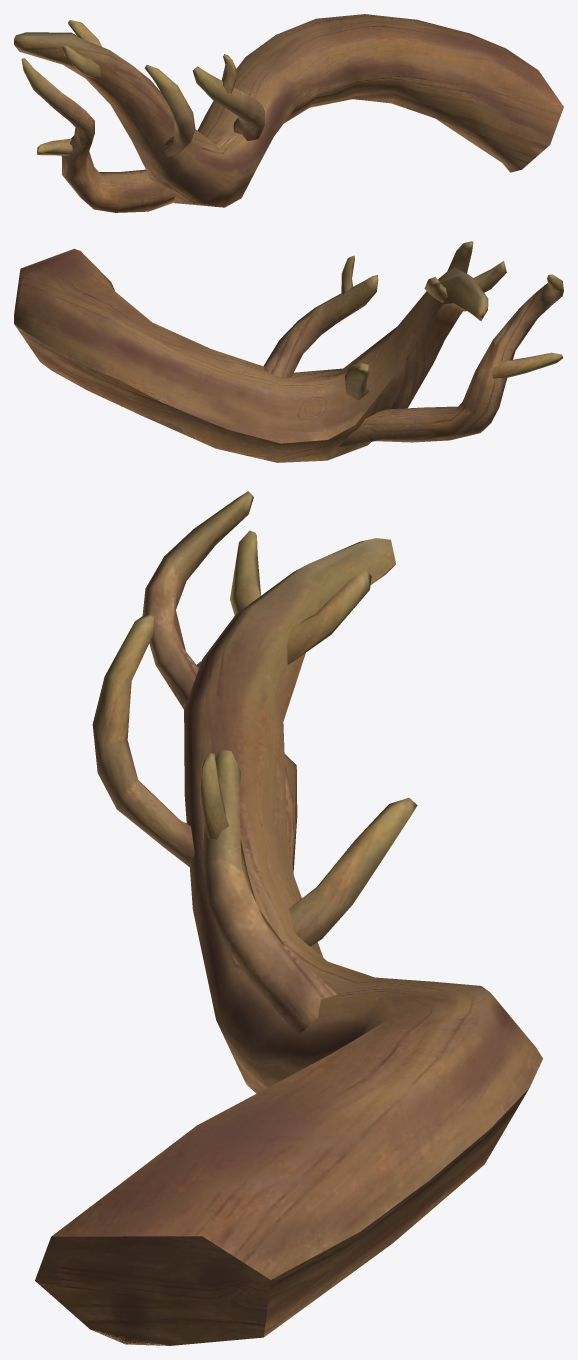
The model's file is SM_Potion_Props_Loot_Root_01.fbx.
The picture shows the model from 3 angles, top to bottom: view 1: azimuth 30°, elevation 25°; view 2: azimuth 150°, elevation 25°; view 3: azimuth 270°, elevation 25°; orthographic projection. The views are drawn at different scales.
Parts seen in each view (by area): view 1: SM_Potion_Props_Loot_Root_01_LOD0; view 2: SM_Potion_Props_Loot_Root_01_LOD0; view 3: SM_Potion_Props_Loot_Root_01_LOD0.
Boxes of the visible parts, <box> form: SM_Potion_Props_Loot_Root_01_LOD0: <box>14,14,563,212</box>; SM_Potion_Props_Loot_Root_01_LOD0: <box>14,241,563,462</box>; SM_Potion_Props_Loot_Root_01_LOD0: <box>35,491,542,1345</box>.
Size of what is drawn, in the model's own units: 36.23 by 14.05 by 15.76.
